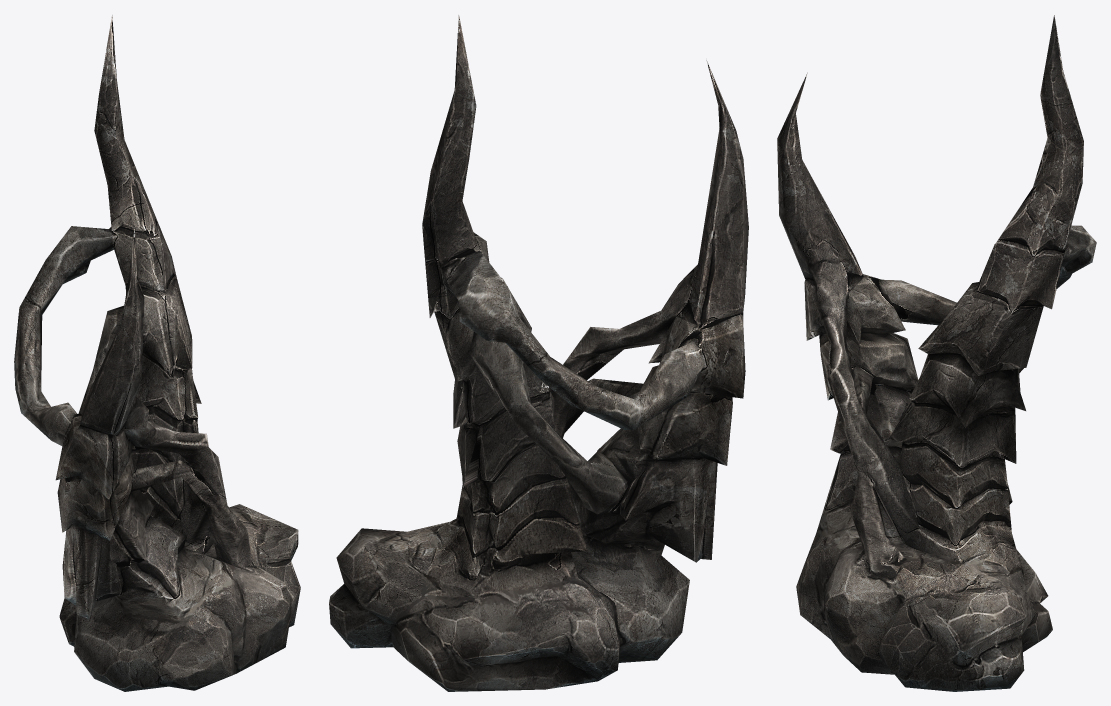
Rendered from x25longjiao02.FBX.
The picture shows the model from 3 angles, left to right: view 1: azimuth 30°, elevation 25°; view 2: azimuth 150°, elevation 25°; view 3: azimuth 270°, elevation 25°; orthographic projection. The views are drawn at different scales.
Parts seen in each view (by area): view 1: x25longjiao02; view 2: x25longjiao02; view 3: x25longjiao02.
Part boxes in pixels (bbox=[...]): x25longjiao02: bbox=[14, 15, 300, 691]; x25longjiao02: bbox=[329, 15, 748, 691]; x25longjiao02: bbox=[777, 15, 1096, 691].
Size of the model in its own units: 2770 by 5298 by 2489.
